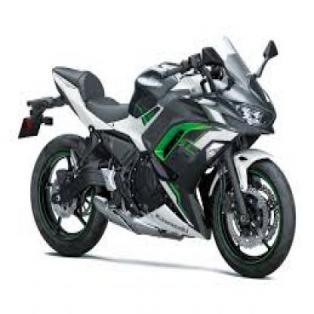Motocicleta: (18, 27, 301, 282)
